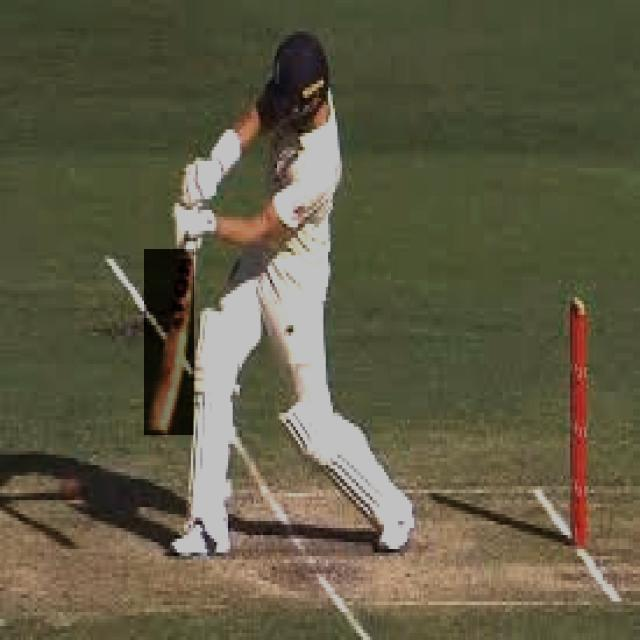bat: (141, 246, 191, 432)
toe: (146, 420, 171, 434)
